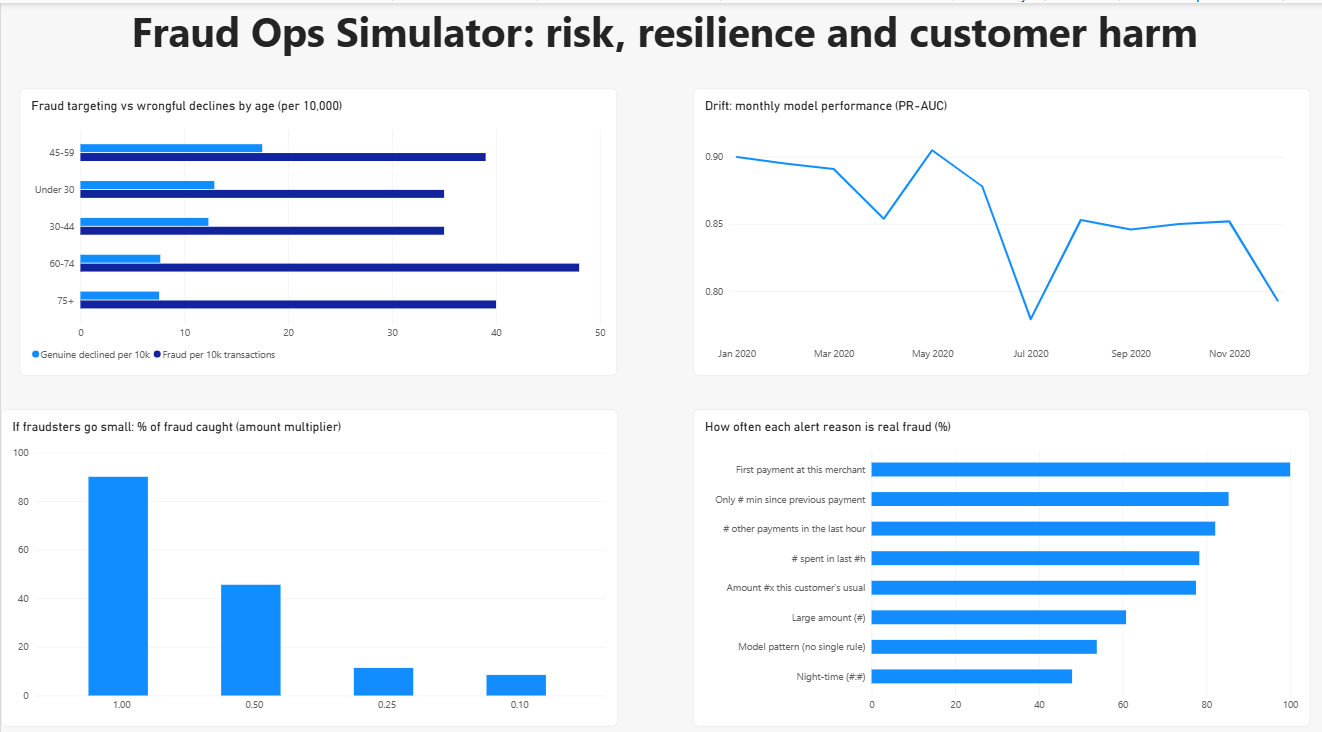

This screenshot's page, from the dashboard's own definition file:
{"tool":"powerbi","page":{"name":"Page 2","canvas":[1920,1080],"ordinal":1},"visuals":[{"type":"clusteredBarChart","title":"Fraud targeting vs wrongful declines by age (per 10,000)","fields":{"Category":["harm_by_age.age_band"],"Y":["Sum(harm_by_age.genuine_declined_per_10k)","harm_by_age.Fraud per 10k transactions"]},"box":[27.8,123.9,865.2,416.6],"z":0},{"type":"lineChart","title":"Drift: monthly model performance (PR-AUC)","fields":{"Category":["drift_monthly.month"],"Y":["Sum(drift_monthly.PR_AUC)"]},"box":[1001.9,123.9,892.9,416.6],"z":1000},{"type":"columnChart","title":"If fraudsters go small: % of fraud caught (amount multiplier)","fields":{"Category":["fraudster_adaptation.fraud amounts x"],"Y":["Sum(fraudster_adaptation.fraud_caught_top1%)"]},"box":[0,587.5,892.9,459.3],"z":2000},{"type":"clusteredBarChart","title":"How often each alert reason is real fraud (%)","fields":{"Category":["reason_summary.top_reason"],"Y":["Sum(reason_summary.real_fraud_pct)"]},"box":[1001.9,587.5,893,459],"z":3000},{"type":"textbox","box":[0,0,1920.4,109.1],"z":4000}]}

Visuals, with their boxes in screenshot pixels (x1, y1, x2, y2), scaled from the page's 1920x1080 canvas onto the 1322x732 screenshot:
"Fraud targeting vs wrongful declines by age (per 10,000)" clusteredBarChart: Rect(19, 84, 615, 366)
"Drift: monthly model performance (PR-AUC)" lineChart: Rect(690, 84, 1305, 366)
"If fraudsters go small: % of fraud caught (amount multiplier)" columnChart: Rect(0, 398, 615, 709)
"How often each alert reason is real fraud (%)" clusteredBarChart: Rect(690, 398, 1305, 709)
textbox: Rect(0, 0, 1321, 74)
